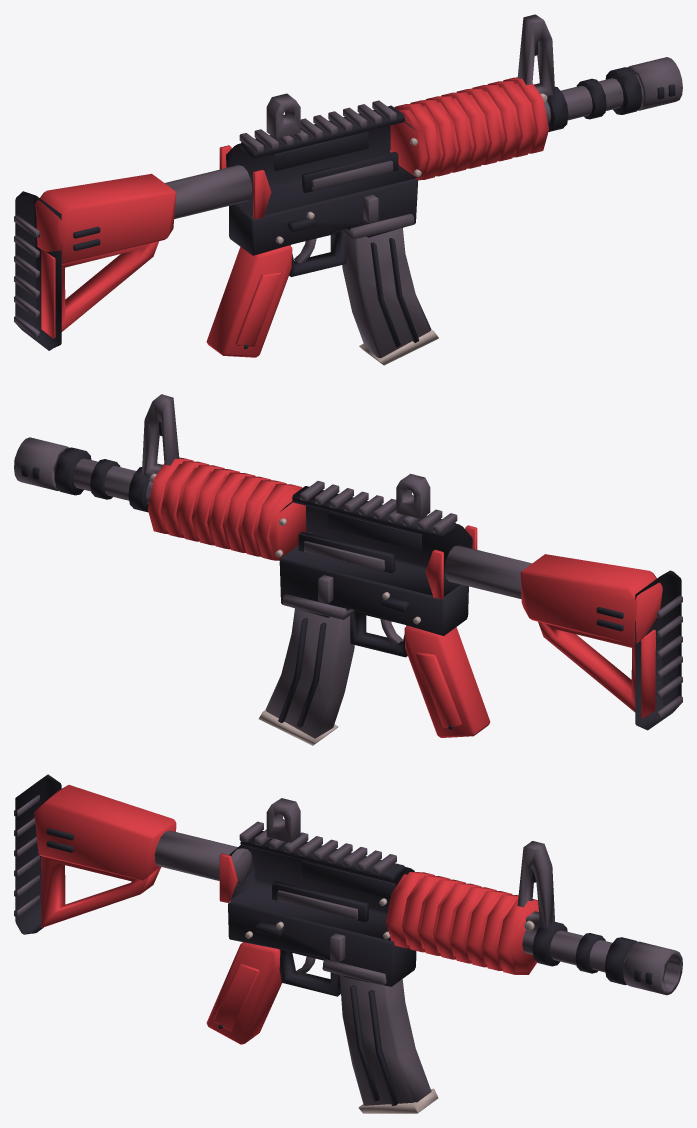
The picture shows the model from 3 angles, top to bottom: view 1: azimuth 30°, elevation 25°; view 2: azimuth 150°, elevation 25°; view 3: azimuth 330°, elevation 25°; orthographic projection.
Size of the model in its own units: 0.878 by 0.3898 by 0.0972.
